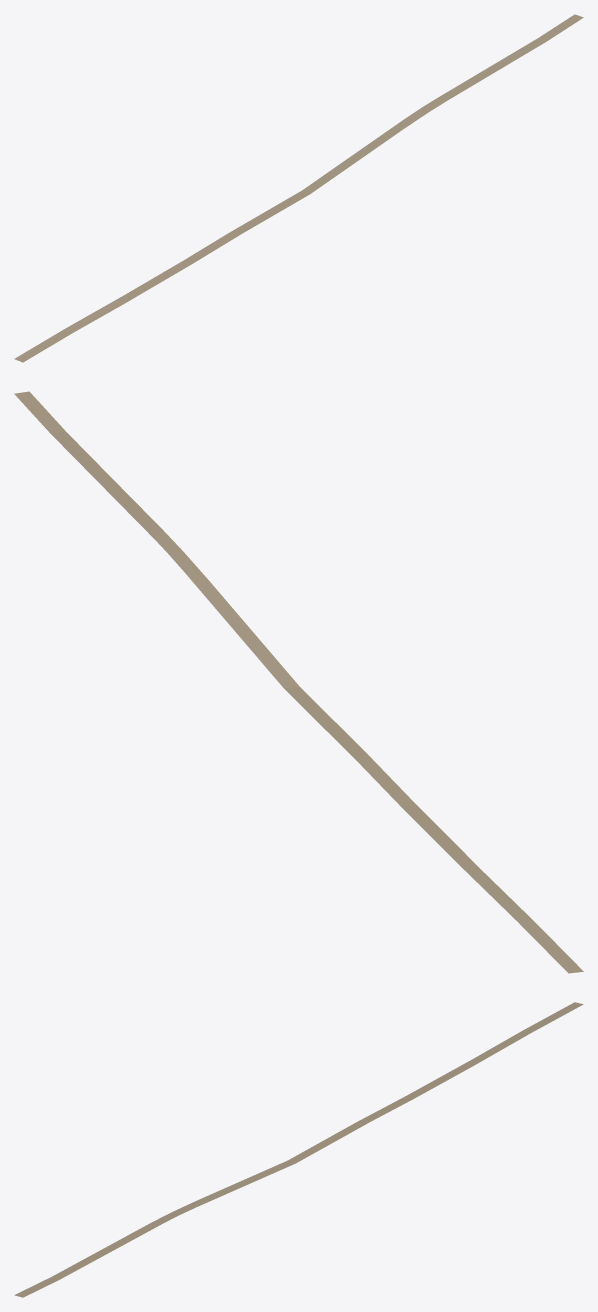
File: farm_29_12_track.glb
The picture shows the model from 3 angles, top to bottom: view 1: azimuth 90°, elevation 25°; view 2: azimuth 150°, elevation 25°; view 3: azimuth 270°, elevation 25°; orthographic projection. The views are drawn at different scales.
Visible parts, largest first — view 1: geometry_0; view 2: geometry_0; view 3: geometry_0.
Part boxes in pixels (x1,y1,x2,y2): geometry_0: (14,14,583,362); geometry_0: (14,391,583,973); geometry_0: (14,1002,583,1297).
Size of the model in its own units: 220 by 8.41 by 165.
